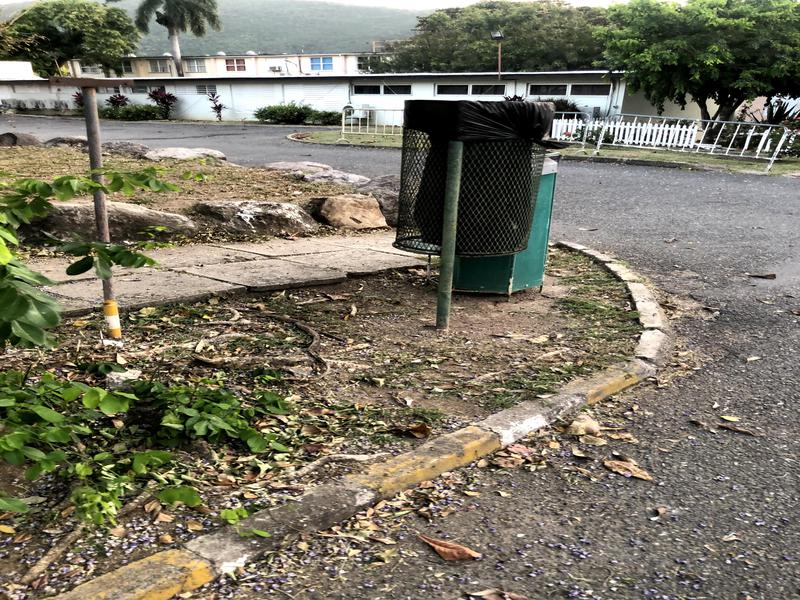18.0053245_-76.7486424_recyclebin: (445, 152, 569, 311)
